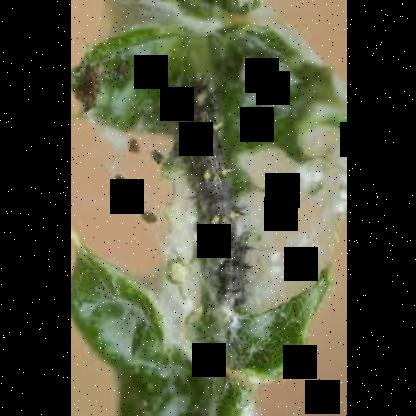oruga: (166, 86, 256, 362)
